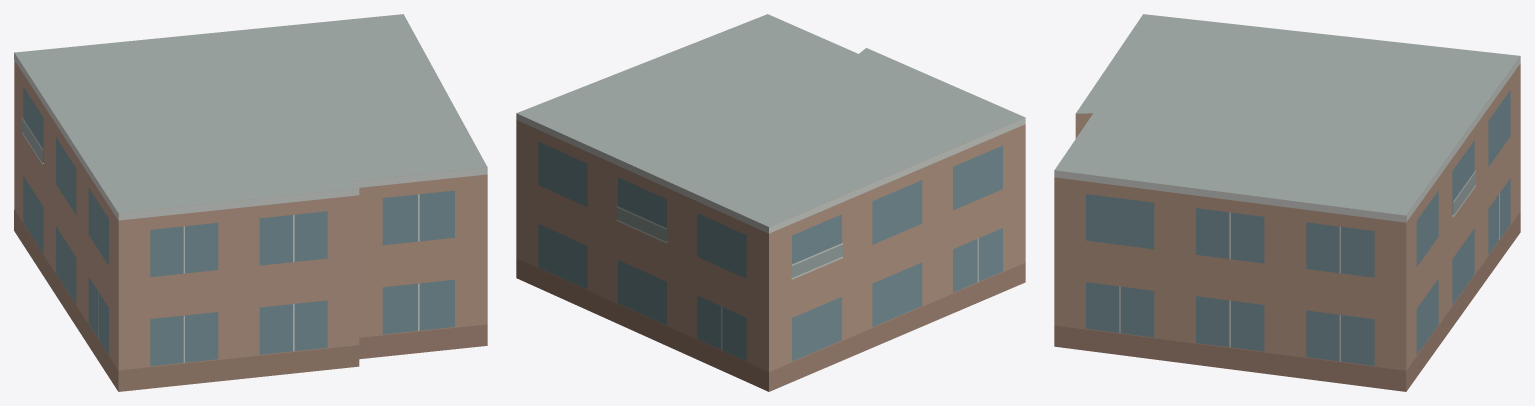
Rendered from survey-upis-32787290.glb.
3 renders of one model, left to right at view 1: azimuth 30°, elevation 25°; view 2: azimuth 150°, elevation 25°; view 3: azimuth 270°, elevation 25°, orthographic. The views are drawn at different scales.
Parts seen in each view (by area): view 1: survey-upis-32787290.tmp; view 2: survey-upis-32787290.tmp; view 3: survey-upis-32787290.tmp.
Part boxes in pixels (<box>): survey-upis-32787290.tmp: <box>14,14,487,391</box>; survey-upis-32787290.tmp: <box>516,14,1025,391</box>; survey-upis-32787290.tmp: <box>1054,14,1520,391</box>.
Size of the model in its own units: 14.98 by 6.1 by 14.64.
